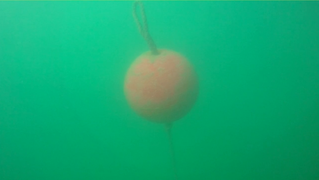buoy: (123, 48, 200, 124)
